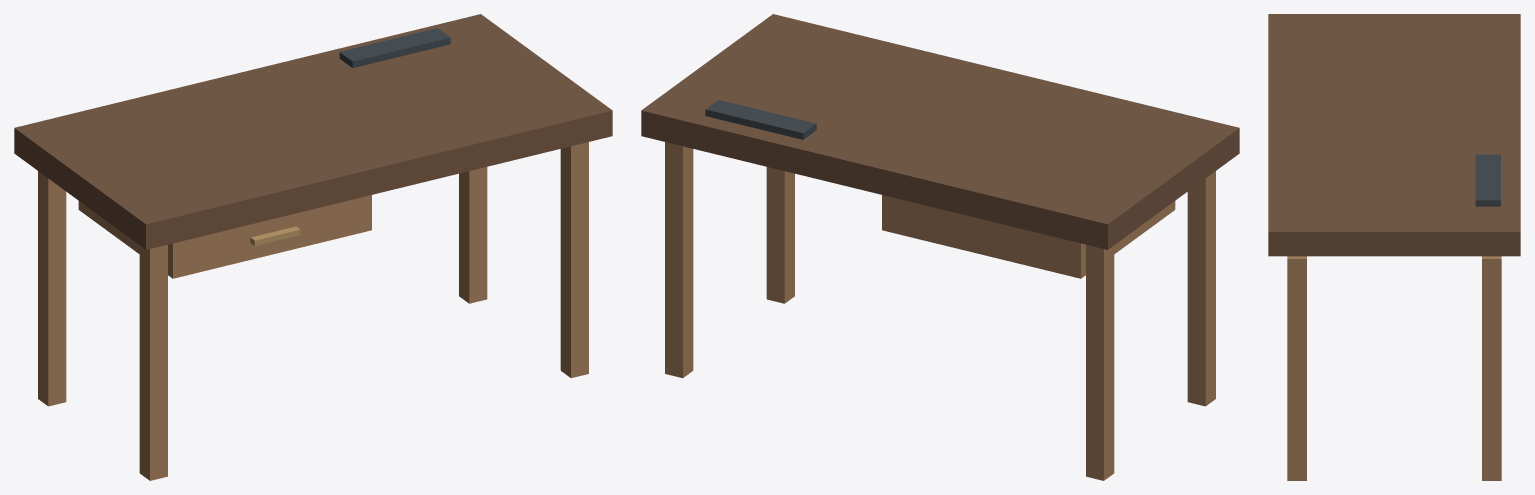
Rendered from writing_table.glb.
3 views of the same model, side by side, from view 1: azimuth 30°, elevation 25°; view 2: azimuth 150°, elevation 25°; view 3: azimuth 270°, elevation 25° (orthographic). The views are drawn at different scales.
Parts seen in each view (by area): view 1: DeskSlab, DeskDrawer, _MeshInstance3D_13, _MeshInstance3D_15, TaperedLeg, _MeshInstance3D_14, CableChannel; view 2: DeskSlab, DeskDrawer, TaperedLeg, _MeshInstance3D_14, _MeshInstance3D_13, _MeshInstance3D_15, CableChannel; view 3: DeskSlab, _MeshInstance3D_14, _MeshInstance3D_15, CableChannel.
Boxes of the visible parts, box(x1,y1,x2,y2) form: DeskSlab: box(14, 14, 612, 249); DeskDrawer: box(78, 195, 371, 278); _MeshInstance3D_13: box(139, 244, 167, 480); _MeshInstance3D_15: box(560, 142, 588, 378); TaperedLeg: box(38, 171, 66, 406); _MeshInstance3D_14: box(459, 167, 487, 303); CableChannel: box(339, 28, 450, 67); DeskSlab: box(641, 14, 1239, 249); DeskDrawer: box(882, 195, 1175, 278); TaperedLeg: box(1086, 244, 1114, 480); _MeshInstance3D_14: box(665, 142, 693, 378); _MeshInstance3D_13: box(1187, 171, 1215, 406); _MeshInstance3D_15: box(766, 167, 794, 303); CableChannel: box(705, 100, 816, 139); DeskSlab: box(1268, 14, 1520, 256); _MeshInstance3D_14: box(1482, 256, 1501, 480); _MeshInstance3D_15: box(1287, 256, 1306, 480); CableChannel: box(1475, 154, 1500, 206).
Bounding box in the file's own units: 1.43 × 0.802 × 0.7.
